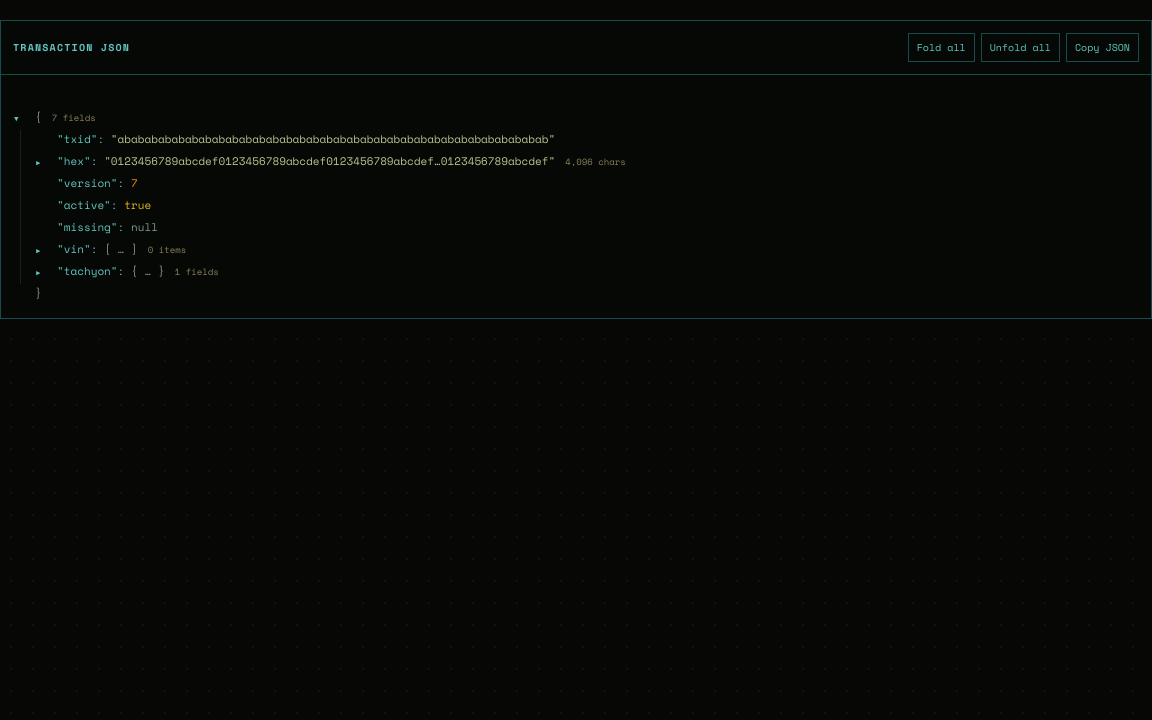
Test: transaction JSON explorer › folds and unfolds all descendants and strings, overriding individual toggles
What coordinates should you click on to do the following:
click the button "Unfold all"
I would click on:
 (1020, 48)
Its box is [981, 33, 1060, 62].
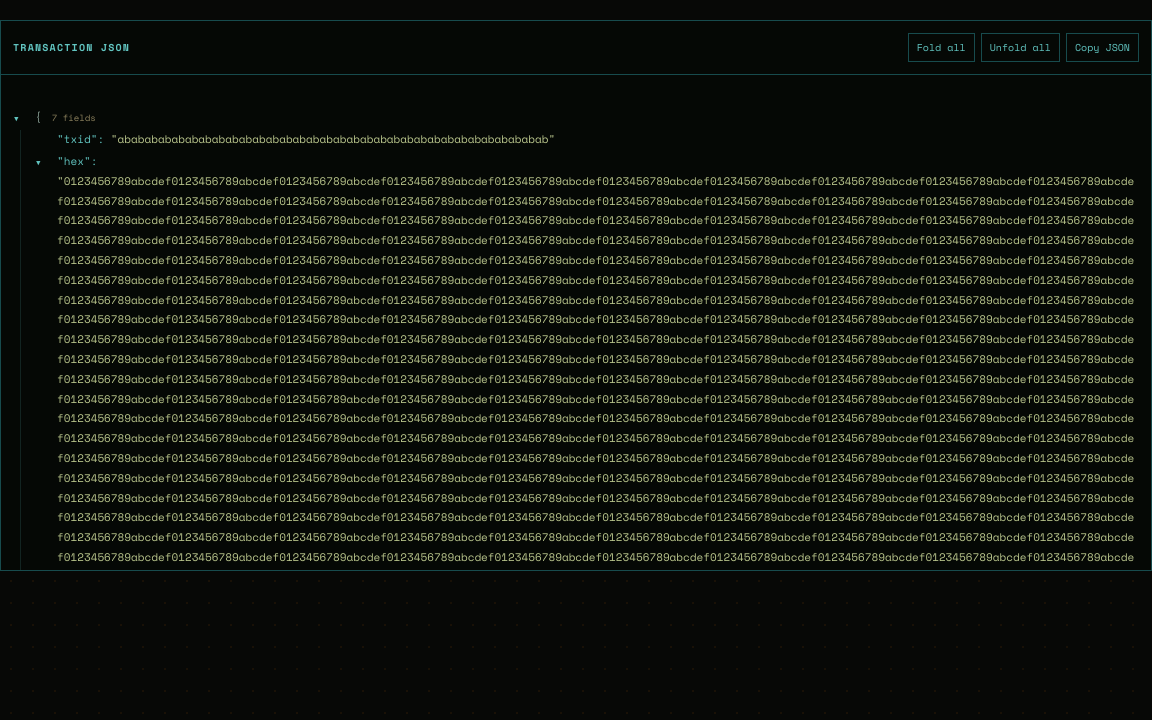
What coordinates should you click on to do the following:
click the button "▾" next to "\"hex\":"
I would click on:
 (46, 163)
Its box is [35, 152, 57, 174].
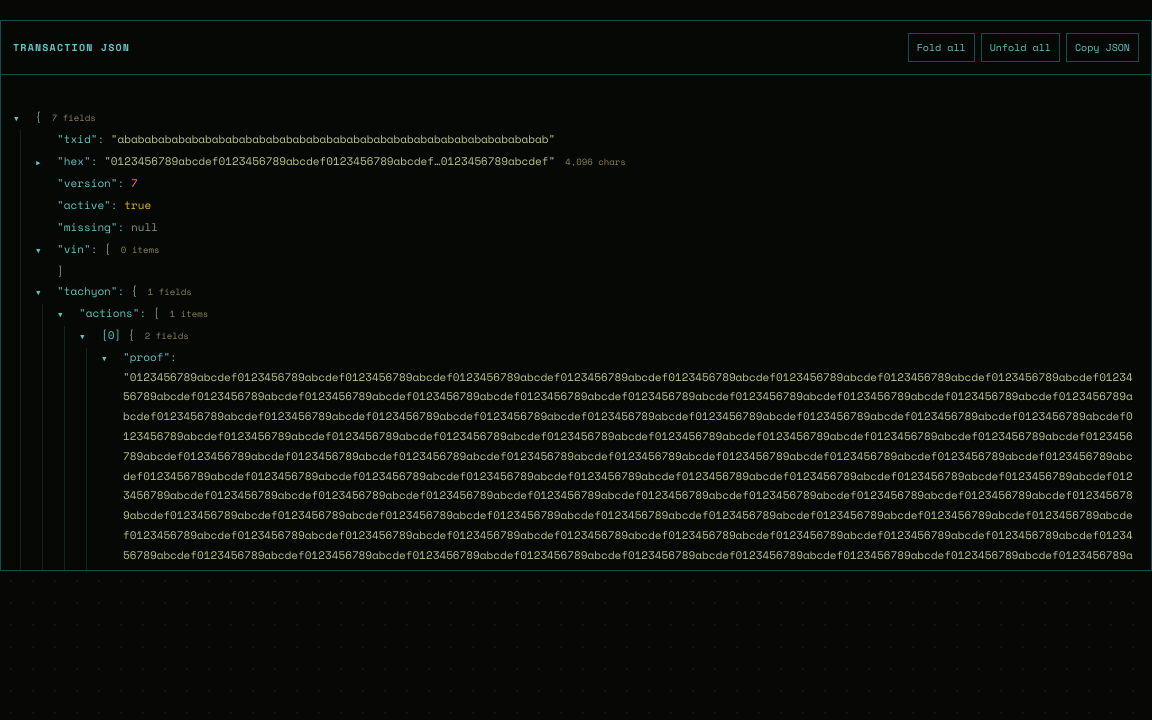
What coordinates should you click on to do the following:
click the button "Unfold all"
I would click on:
 (1020, 48)
Its box is [981, 33, 1060, 62].
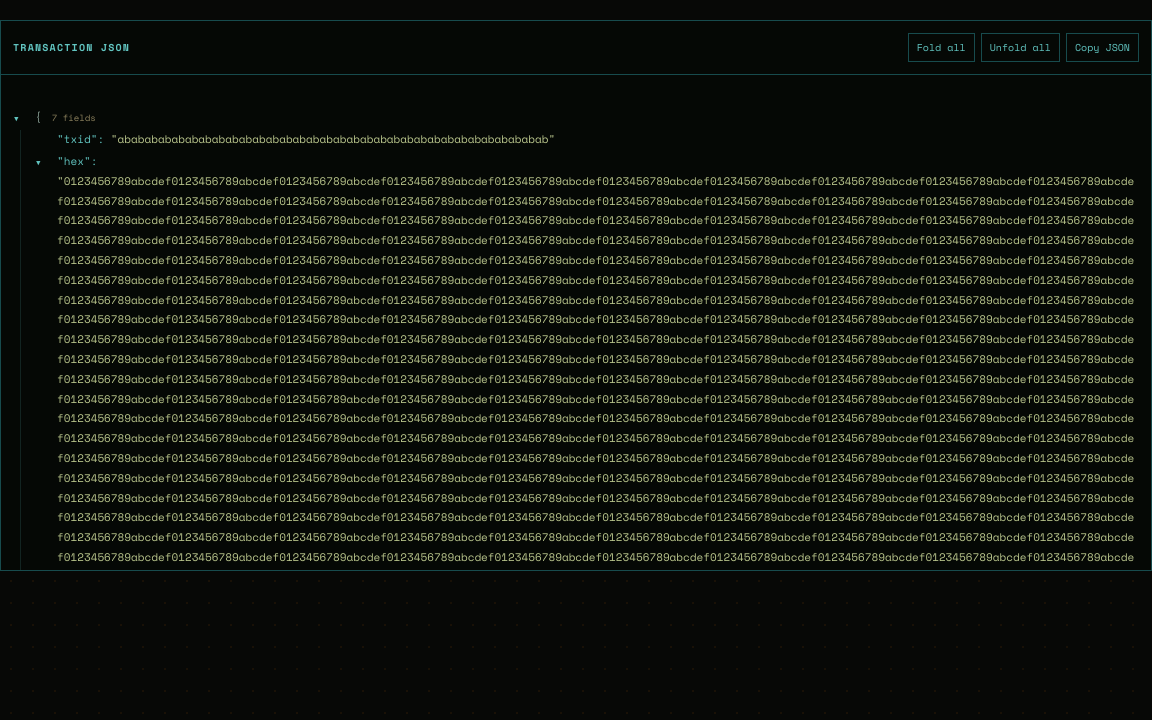
expect the button "▾" next to "\"hex\":" is expanded: met, box [35, 152, 57, 174]
What coordinates should you click on to do the following:
click the button "Fold all"
I would click on:
 (941, 48)
Its box is [908, 33, 975, 62].
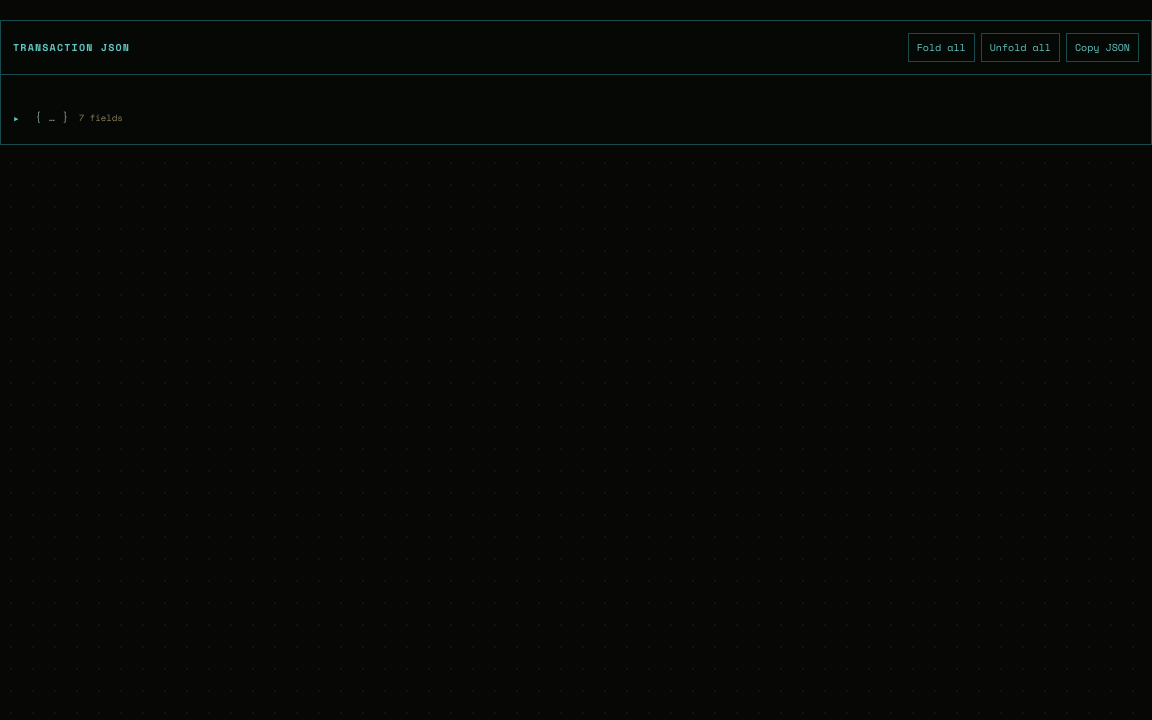
expect the text "\"txid\"" is gone: met
What coordinates should you click on to do the following:
click the button "▸"
I would click on:
 (24, 119)
Its box is [13, 108, 35, 130].
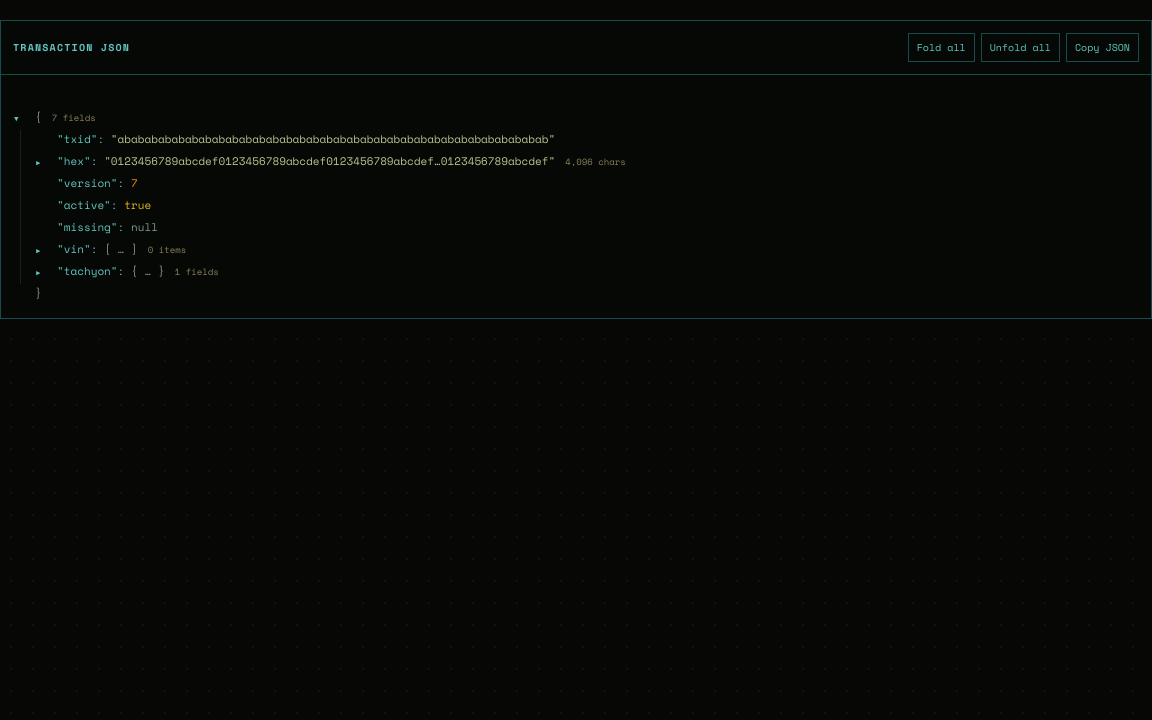
expect the button "▸" next to "\"tachyon\":" is shown: met, box [35, 262, 57, 284]
expect the button "▸" next to "\"hex\":" is shown: met, box [35, 152, 57, 174]
